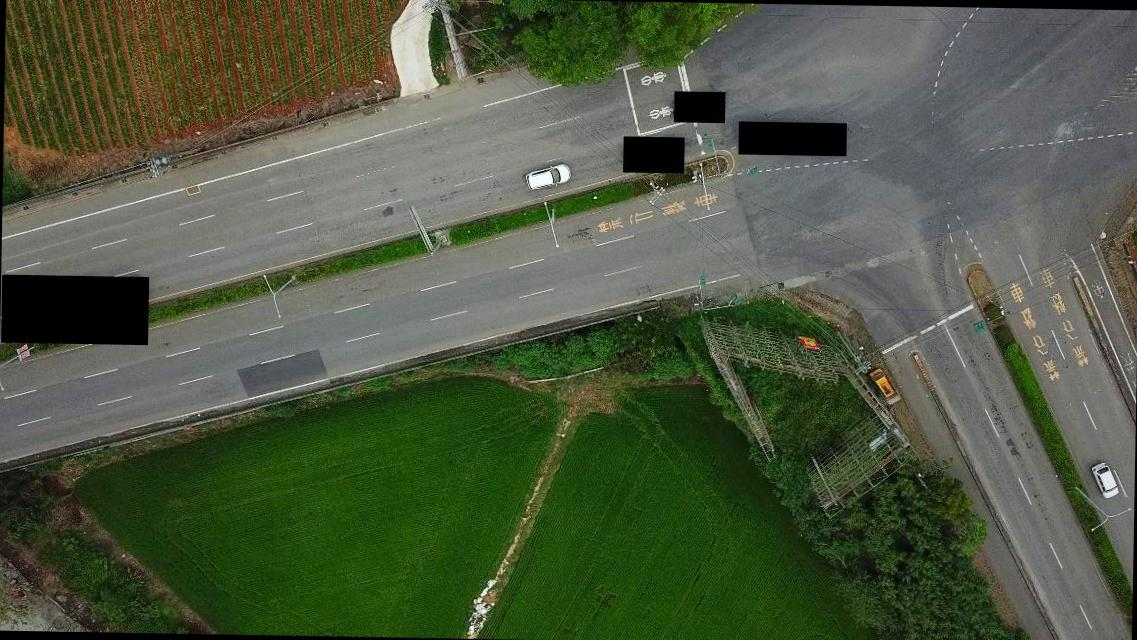vehicle: (522, 162, 570, 191), (1089, 460, 1121, 498), (869, 367, 894, 398)
